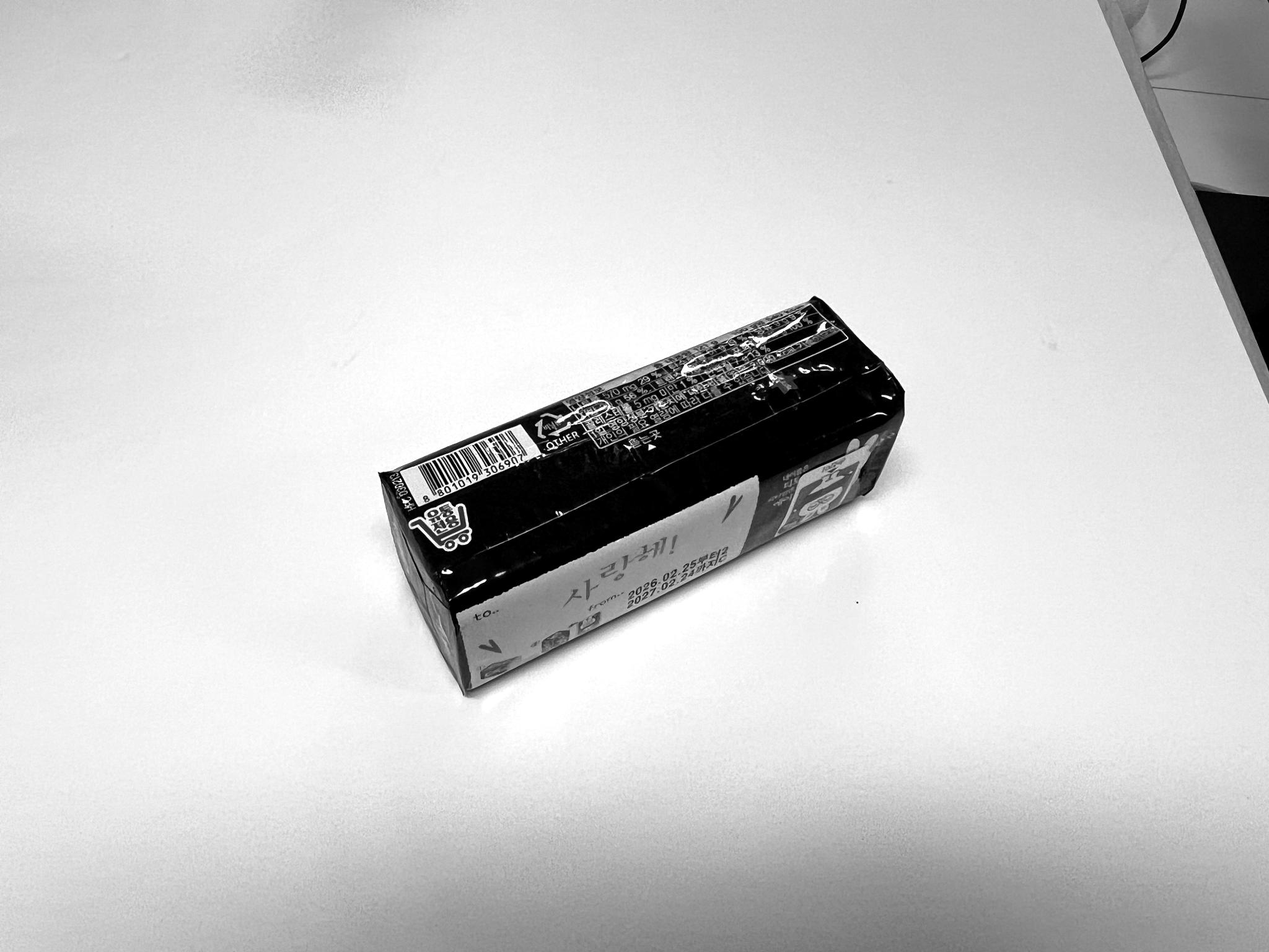cracker_ace: (379, 294, 904, 693)
